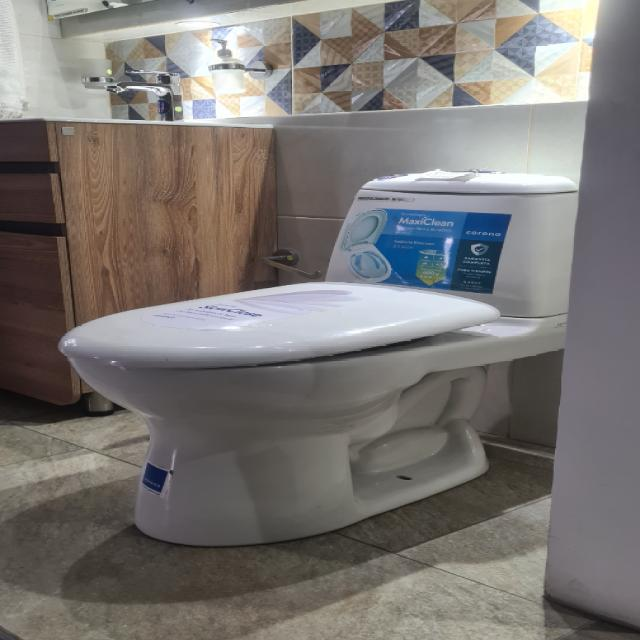toilet: (51, 161, 587, 555)
